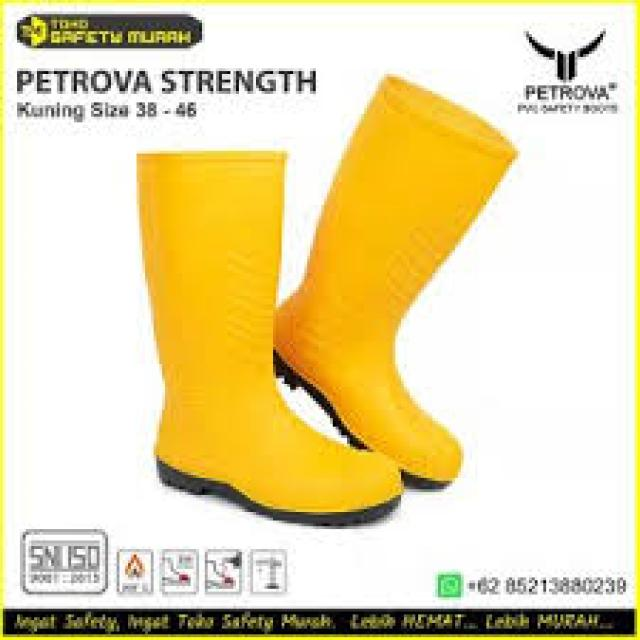shoes: (137, 146, 405, 532), (272, 74, 515, 491)
